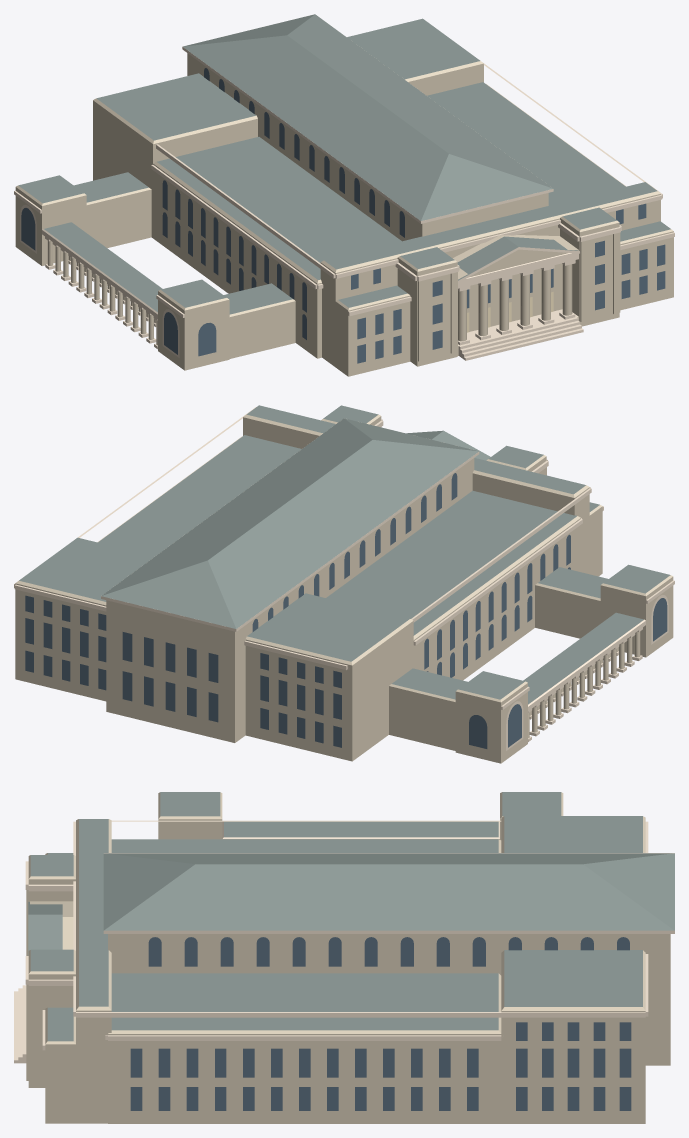
Rendered from nash-schermerhorn.glb.
3 renders of one model, top to bottom at view 1: azimuth 30°, elevation 25°; view 2: azimuth 150°, elevation 25°; view 3: azimuth 270°, elevation 25°, orthographic. The views are drawn at different scales.
Parts seen in each view (by area): view 1: Schermerhorn Symphony Center; view 2: Schermerhorn Symphony Center; view 3: Schermerhorn Symphony Center.
Boxes of the visible parts, bbox=[...] form: Schermerhorn Symphony Center: bbox=[14, 14, 674, 376]; Schermerhorn Symphony Center: bbox=[14, 405, 674, 763]; Schermerhorn Symphony Center: bbox=[14, 792, 674, 1123].
Size of the model in its own units: 84.65 by 24.9 by 90.71.
